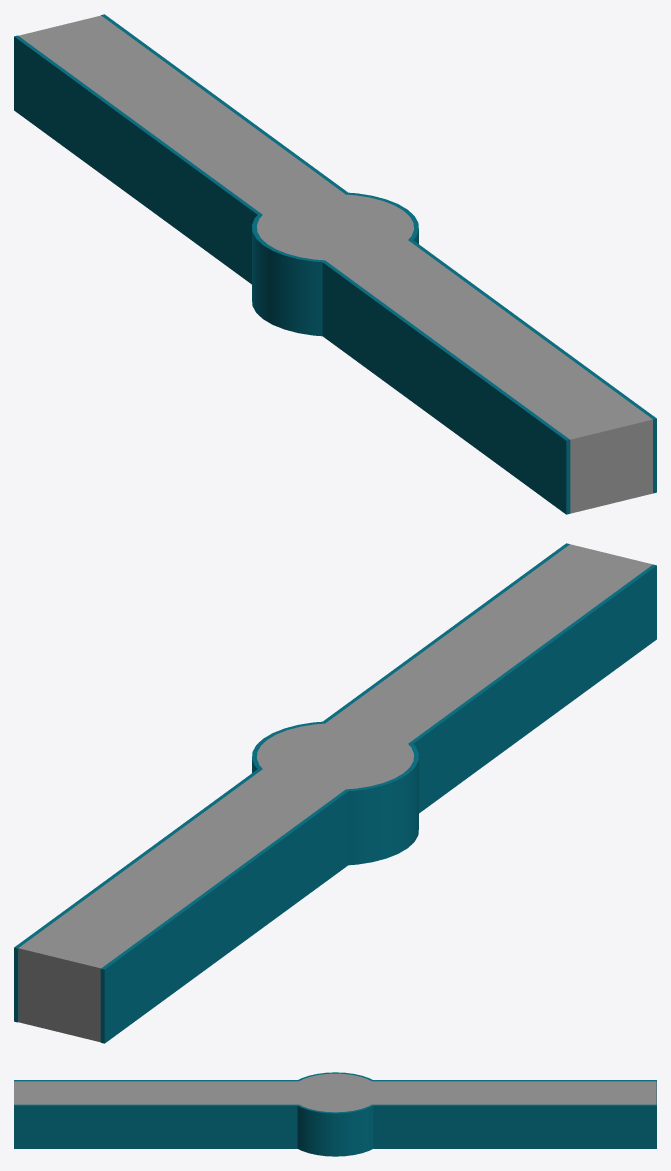
File: platform2.fbx
3 renders of one model, top to bottom at view 1: azimuth 30°, elevation 25°; view 2: azimuth 150°, elevation 25°; view 3: azimuth 270°, elevation 25°, orthographic. The views are drawn at different scales.
Parts seen in each view (by area): view 1: Cylinder003; view 2: Cylinder003; view 3: Cylinder003.
Part boxes in pixels (bbox=[...]): Cylinder003: bbox=[14, 14, 656, 514]; Cylinder003: bbox=[14, 543, 656, 1043]; Cylinder003: bbox=[14, 1072, 656, 1156].
Bounding box in the file's own units: 1024 × 6762 × 500.
